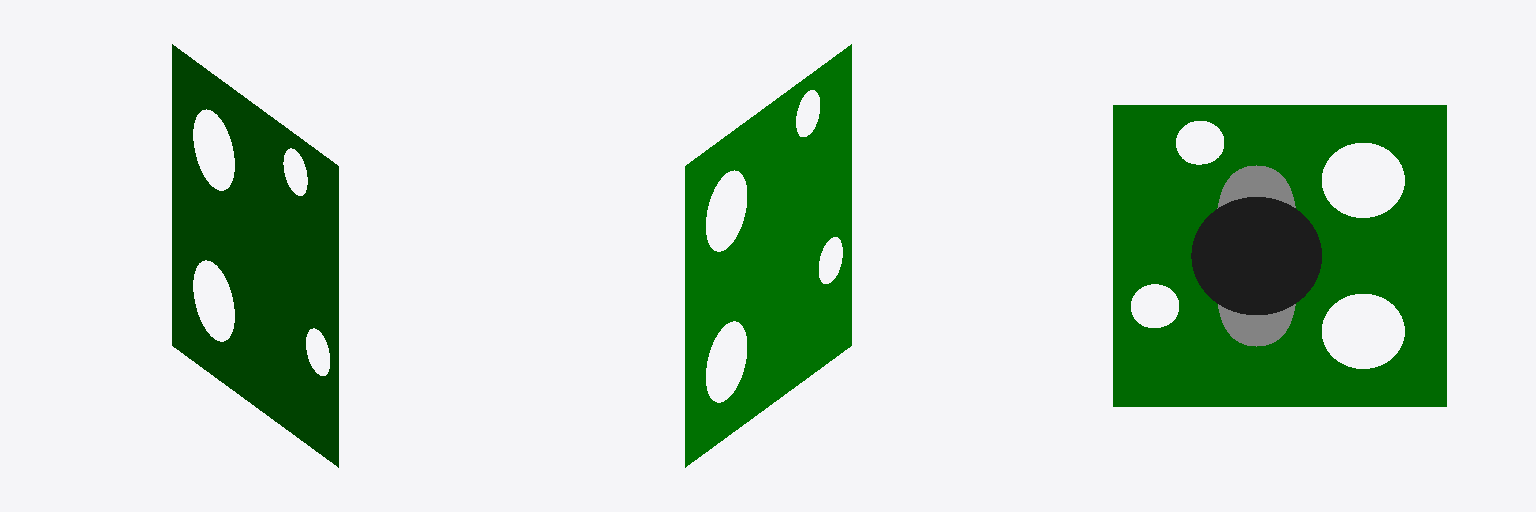
File: shooter2014v3.obj
The picture shows the model from 3 angles: view 1: azimuth 30°, elevation 25°; view 2: azimuth 150°, elevation 25°; view 3: azimuth 270°, elevation 25°; orthographic projection.
Visible parts, largest first — view 1: BezierCircle; view 2: BezierCircle; view 3: BezierCircle, BezierCircle.001, BezierCircle.002_BezierCircle.003.
Part boxes in pixels (x1,y1,x2,y2): BezierCircle: (172, 44, 338, 467); BezierCircle: (685, 44, 851, 467); BezierCircle: (1113, 105, 1446, 406); BezierCircle.001: (1191, 197, 1321, 314); BezierCircle.002_BezierCircle.003: (1217, 165, 1295, 346).
Bounding box in the file's own units: 0.0025 × 1.22 × 1.22.